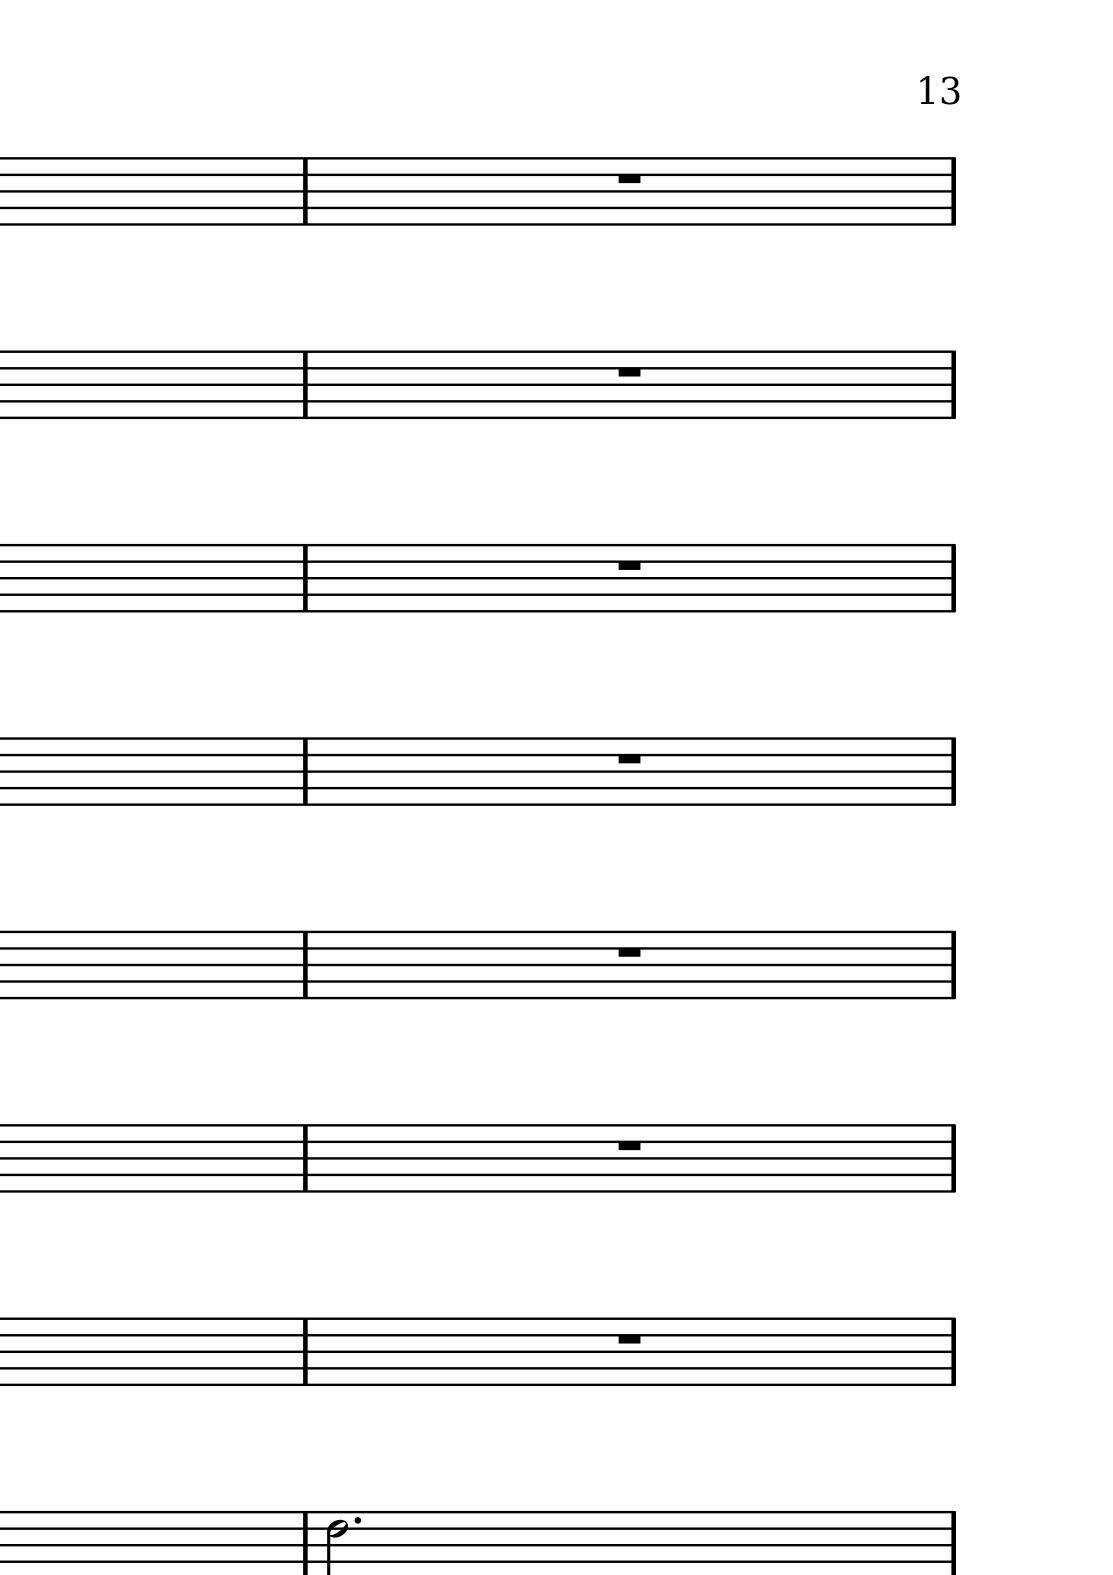1: (921, 72, 934, 113)
3: (940, 69, 962, 116)
Rests1: (613, 745, 650, 769), (612, 167, 644, 189), (614, 555, 648, 574), (616, 1134, 644, 1156), (616, 1328, 644, 1349), (616, 942, 646, 961), (617, 362, 644, 381)
Single_barline: (291, 1125, 318, 1194), (291, 930, 317, 1001), (291, 737, 317, 808), (940, 349, 964, 421), (938, 1123, 962, 1194), (938, 736, 962, 807), (291, 157, 317, 224), (940, 155, 962, 228), (938, 930, 961, 1001), (293, 1319, 317, 1386), (293, 350, 316, 420), (940, 543, 962, 613), (940, 1319, 962, 1387), (293, 543, 314, 613)
dot: (351, 1509, 366, 1530), (351, 1515, 363, 1528)
